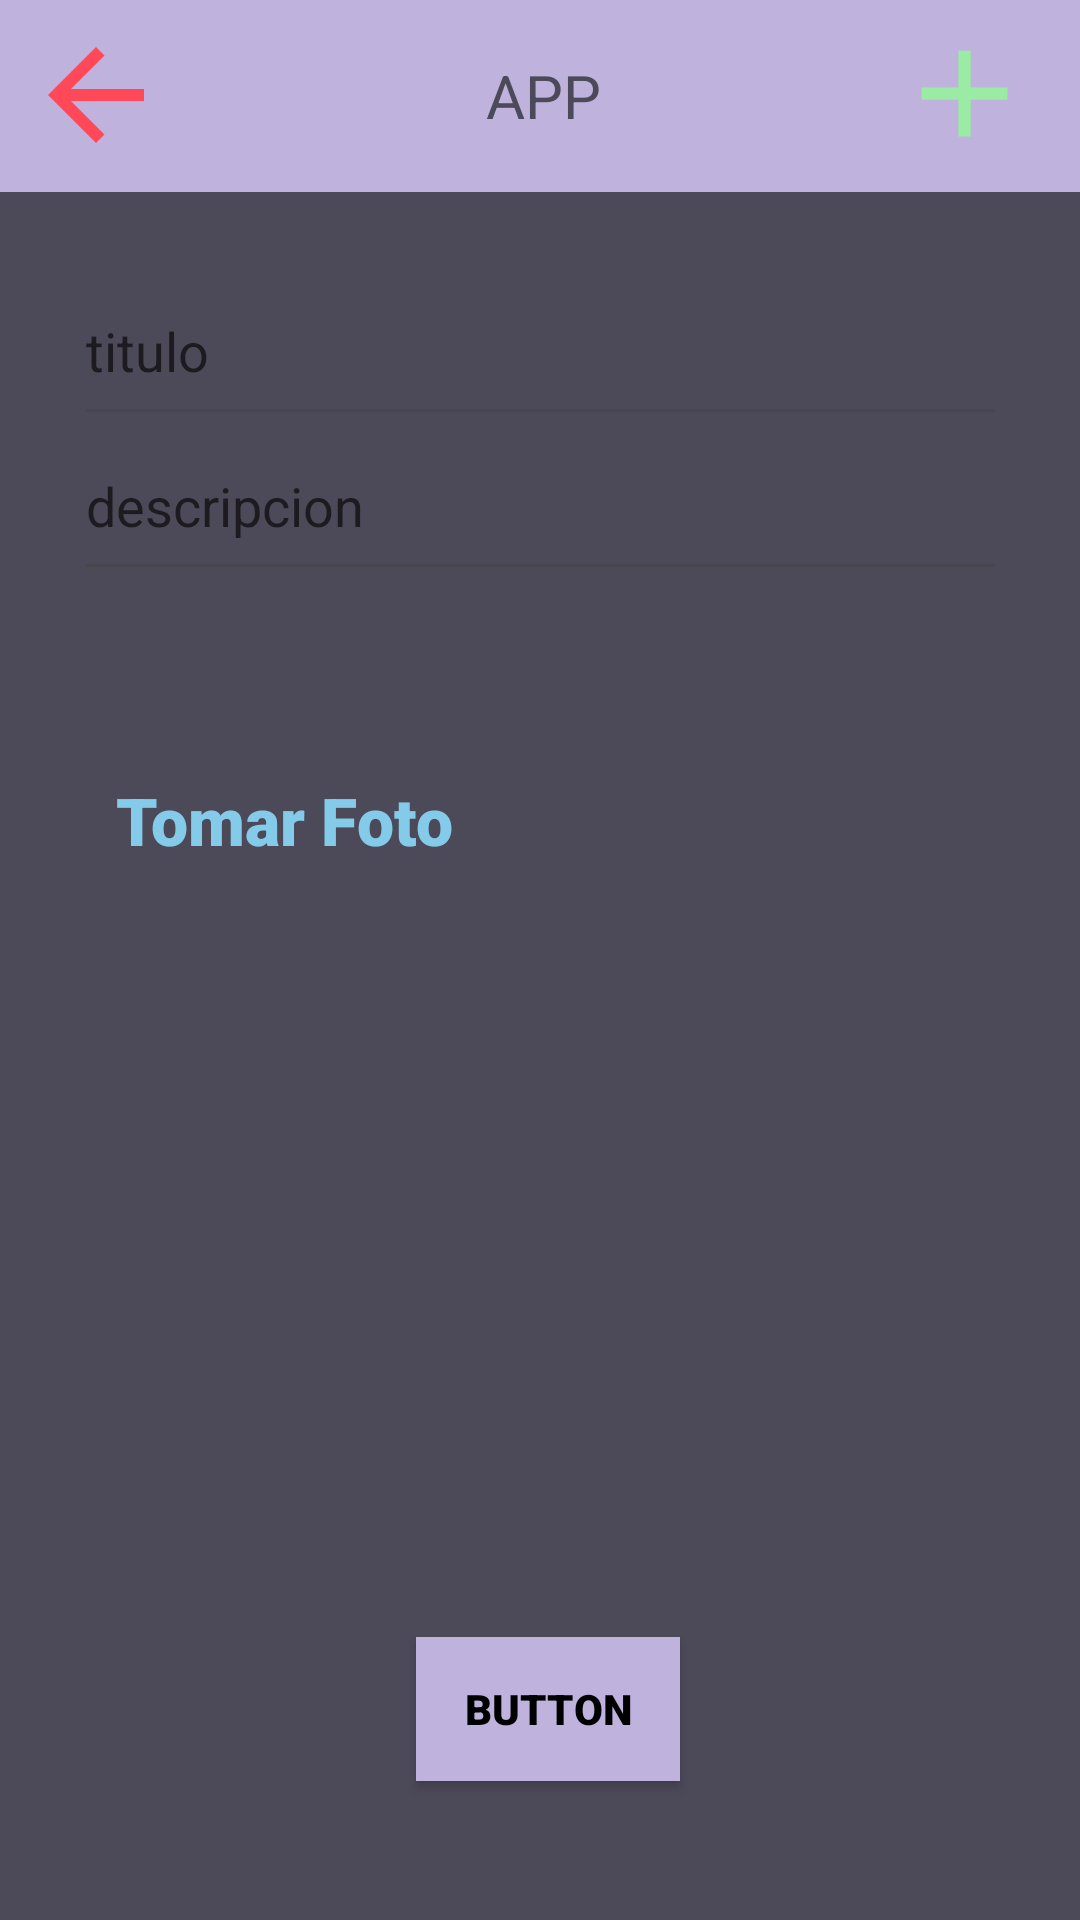

Icon click points for this 1080×1920 phone screenshot, format (x=x, y=y):
add: (x=964, y=94)
arrow back: (x=96, y=95)
